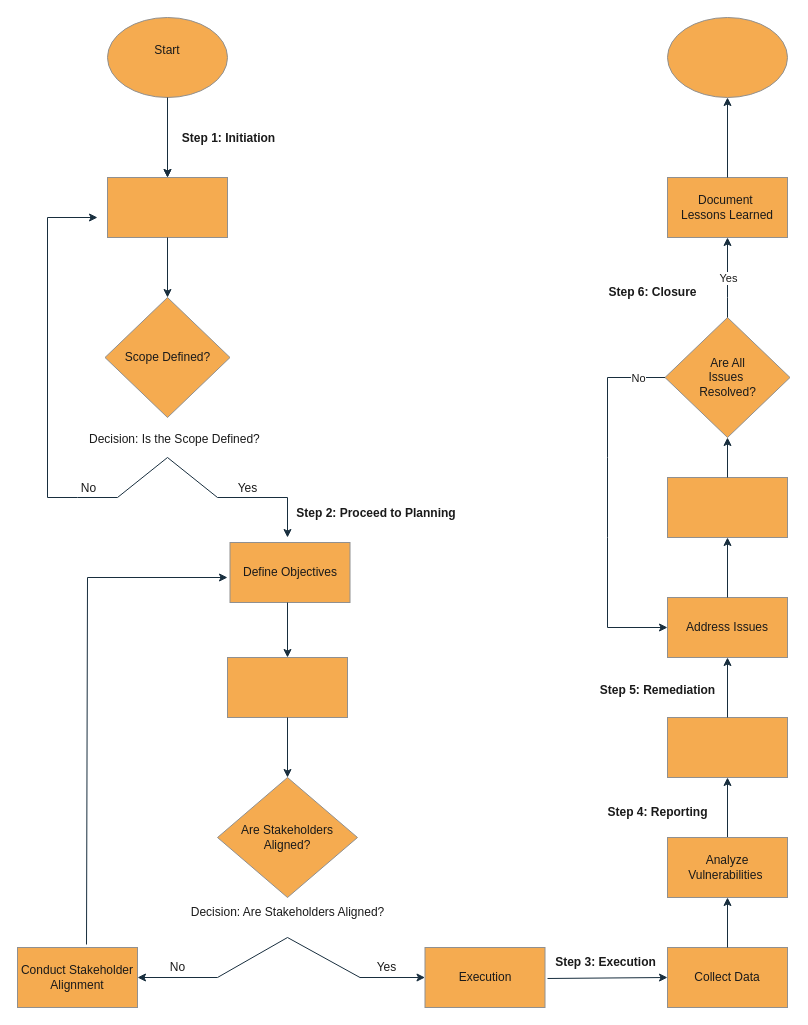
Image size: 808x1025. Some labels were removed from this diagram. The shapes that lost their labels are listed below. From the top down, each one's box as (x1, y1, x2, y2) in pixels, then its label:
(666, 16, 788, 98): End
(106, 176, 228, 238): Define Scope
(666, 476, 788, 538): Implement Improvements
(226, 656, 348, 718): Identify Resources
(666, 716, 788, 778): Draft and Share Report
